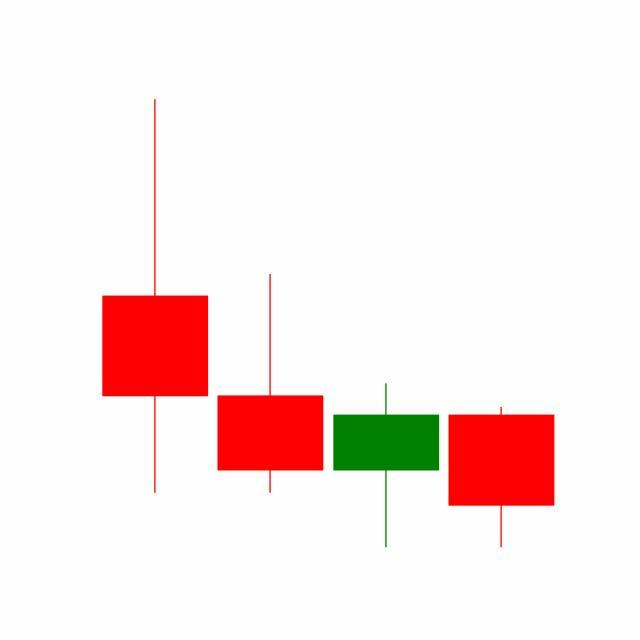Hammer: (329, 382, 445, 551)
